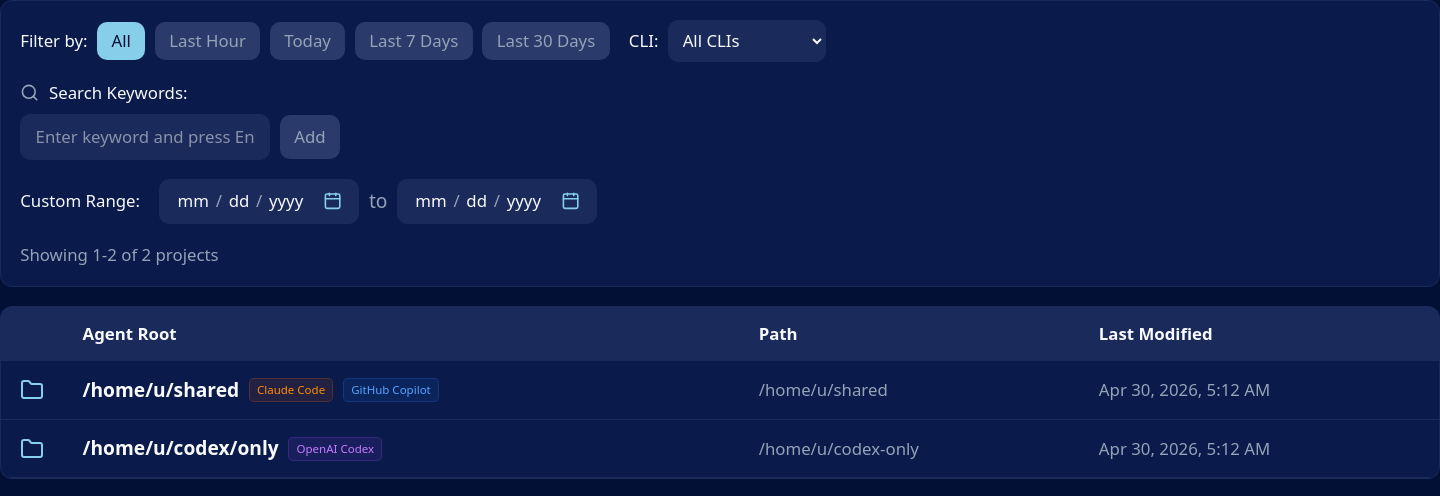
Test: ProjectList › CLI filter matches multi-CLI rows
The image size is (1440, 496).
Select "GitHub Copilot" in the dropdown named "Filter by CLI" at (747, 41), box left=668, top=20, right=826, bottom=62
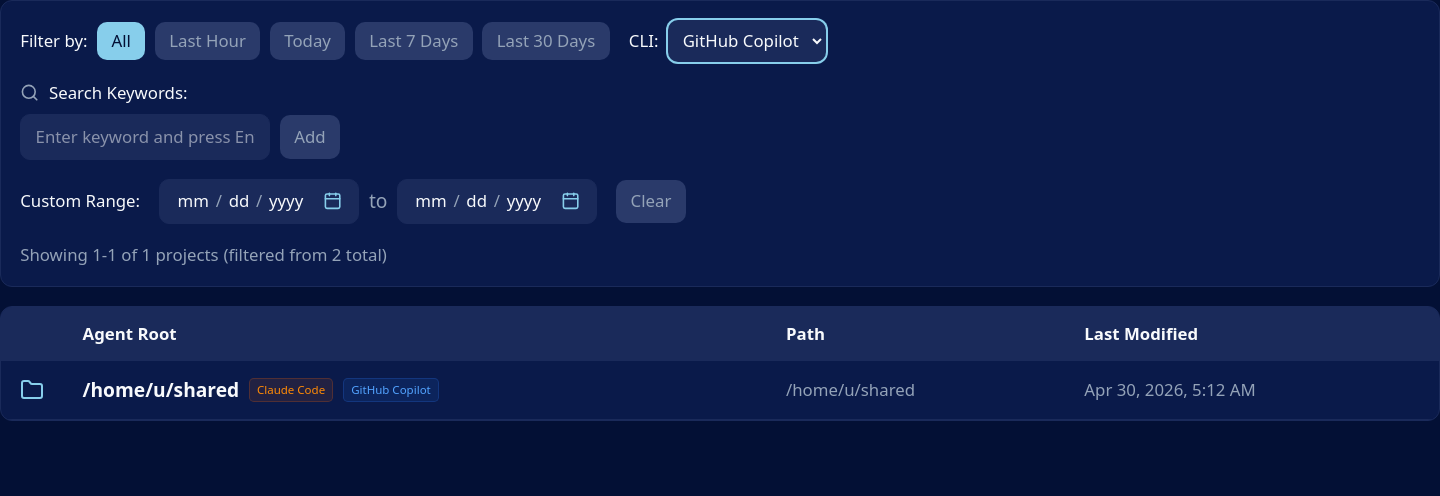
Expected: the link "/home/u/shared" is shown, left=83, top=376, right=239, bottom=404
Expected: the text "/home/u/codex-only" is gone
